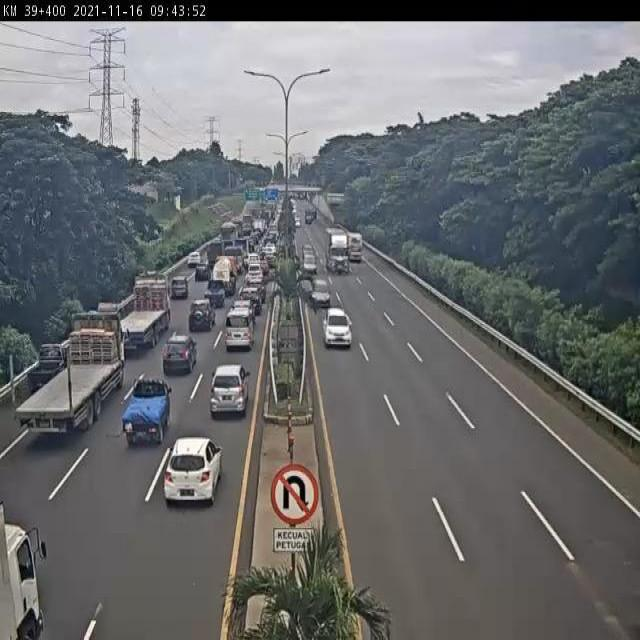car: (165, 438, 219, 506), (123, 379, 174, 445), (210, 368, 249, 417), (322, 306, 353, 351), (162, 336, 195, 376), (223, 310, 252, 350), (188, 298, 215, 334), (309, 281, 330, 311), (170, 275, 190, 301), (205, 279, 225, 305)
truck-l-: (14, 315, 131, 436), (116, 270, 170, 350)
